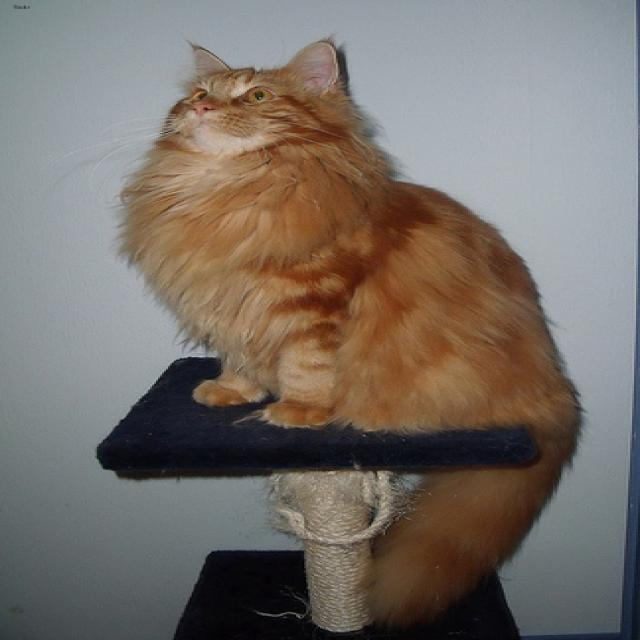Maine_Coon: (164, 39, 340, 153)
